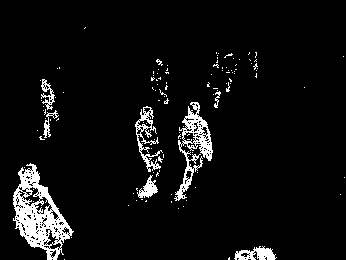person: (13, 160, 75, 260), (176, 101, 213, 202), (135, 105, 165, 200), (40, 78, 59, 141)
